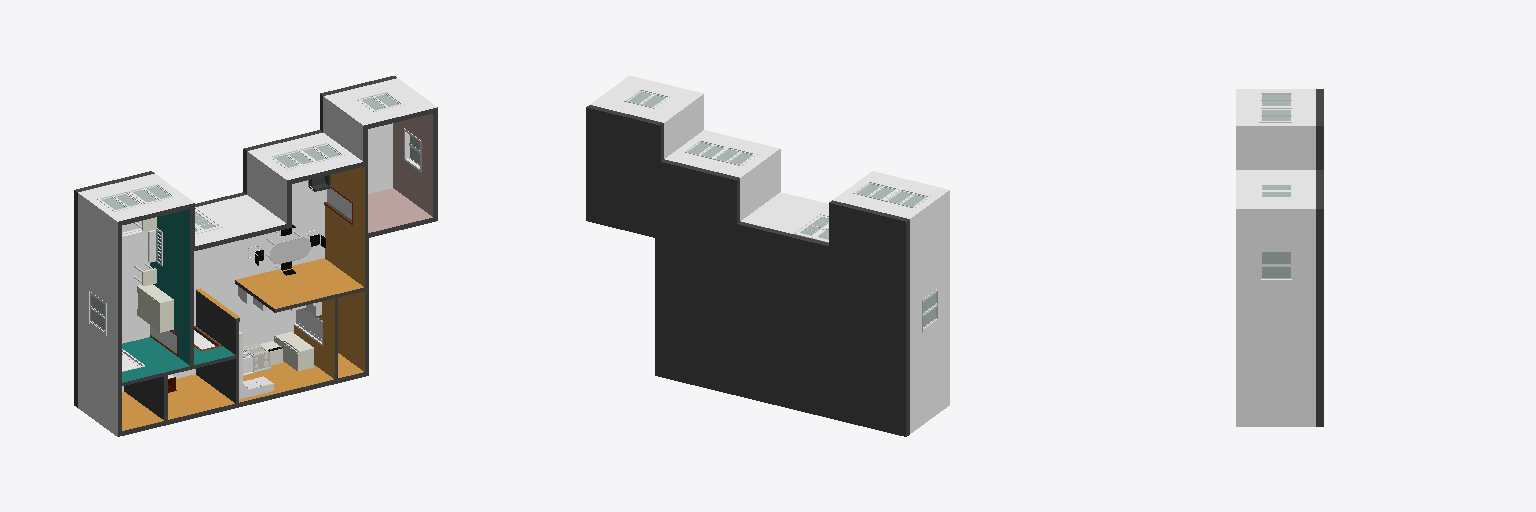
The model's file is apartment.obj.
3 views of the same model, side by side, from view 1: azimuth 30°, elevation 25°; view 2: azimuth 150°, elevation 25°; view 3: azimuth 270°, elevation 25° (orthographic).
Parts seen in each view (by area): view 1: Obj.3164:1, Obj.2895, Obj.2896:1, Obj.2897:1, Obj.2900, Obj.2887:1, Obj.2904:1, Obj.2901, Obj.2892, Obj.2888, Obj.2890, Obj.3164 (+18 smaller); view 2: Obj.3164, Obj.2895, Obj.2888, Obj.2890, Obj.2892, Obj.2894, Obj.2891:1, Obj.2889; view 3: Obj.2897, Obj.2887, Obj.2893, Obj.3164, Obj.2888, Obj.2894, Obj.3158:2.
Boxes of the visible parts, x1,y1,x2,y2 form: Obj.3164:1: [122, 123, 392, 391]; Obj.2895: [78, 198, 117, 436]; Obj.2896:1: [122, 353, 363, 430]; Obj.2897:1: [325, 210, 364, 371]; Obj.2900: [236, 258, 363, 308]; Obj.2887:1: [393, 114, 432, 216]; Obj.2904:1: [150, 232, 189, 364]; Obj.2901: [196, 294, 238, 403]; Obj.2892: [195, 195, 285, 245]; Obj.2888: [323, 79, 432, 129]; Obj.2890: [247, 133, 362, 184]; Obj.3164: [74, 76, 396, 407]; Obj.3164: [586, 105, 909, 436]; Obj.2895: [910, 195, 949, 433]; Obj.2888: [595, 77, 703, 127]; Obj.2890: [665, 130, 780, 182]; Obj.2892: [741, 192, 828, 233]; Obj.2894: [837, 172, 949, 223]; Obj.2891:1: [740, 153, 780, 220]; Obj.2889: [664, 99, 703, 158]; Obj.2897: [1236, 322, 1315, 421]; Obj.2887: [1236, 206, 1315, 317]; Obj.2893: [1236, 124, 1315, 169]; Obj.3164: [1316, 89, 1323, 426]; Obj.2888: [1236, 172, 1315, 205]; Obj.2894: [1236, 89, 1315, 123]; Obj.3158:2: [1262, 252, 1290, 277].
Size of the model in its own units: 1413 by 1059 by 332.